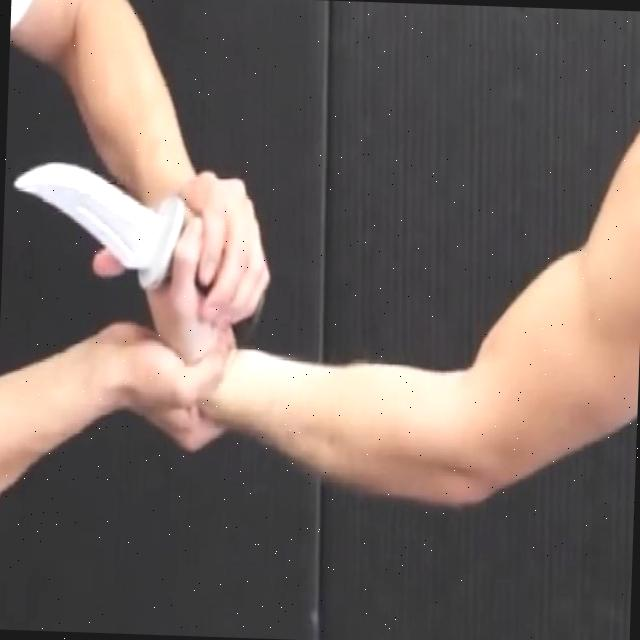suspicion: (0, 0, 640, 516), (7, 156, 188, 296)
